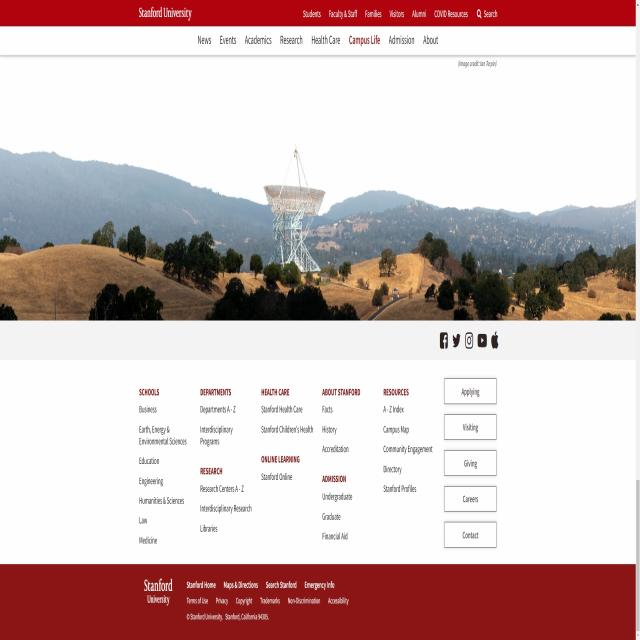menu-bar: (299, 4, 502, 24)
tab-bar: (194, 29, 444, 49)
